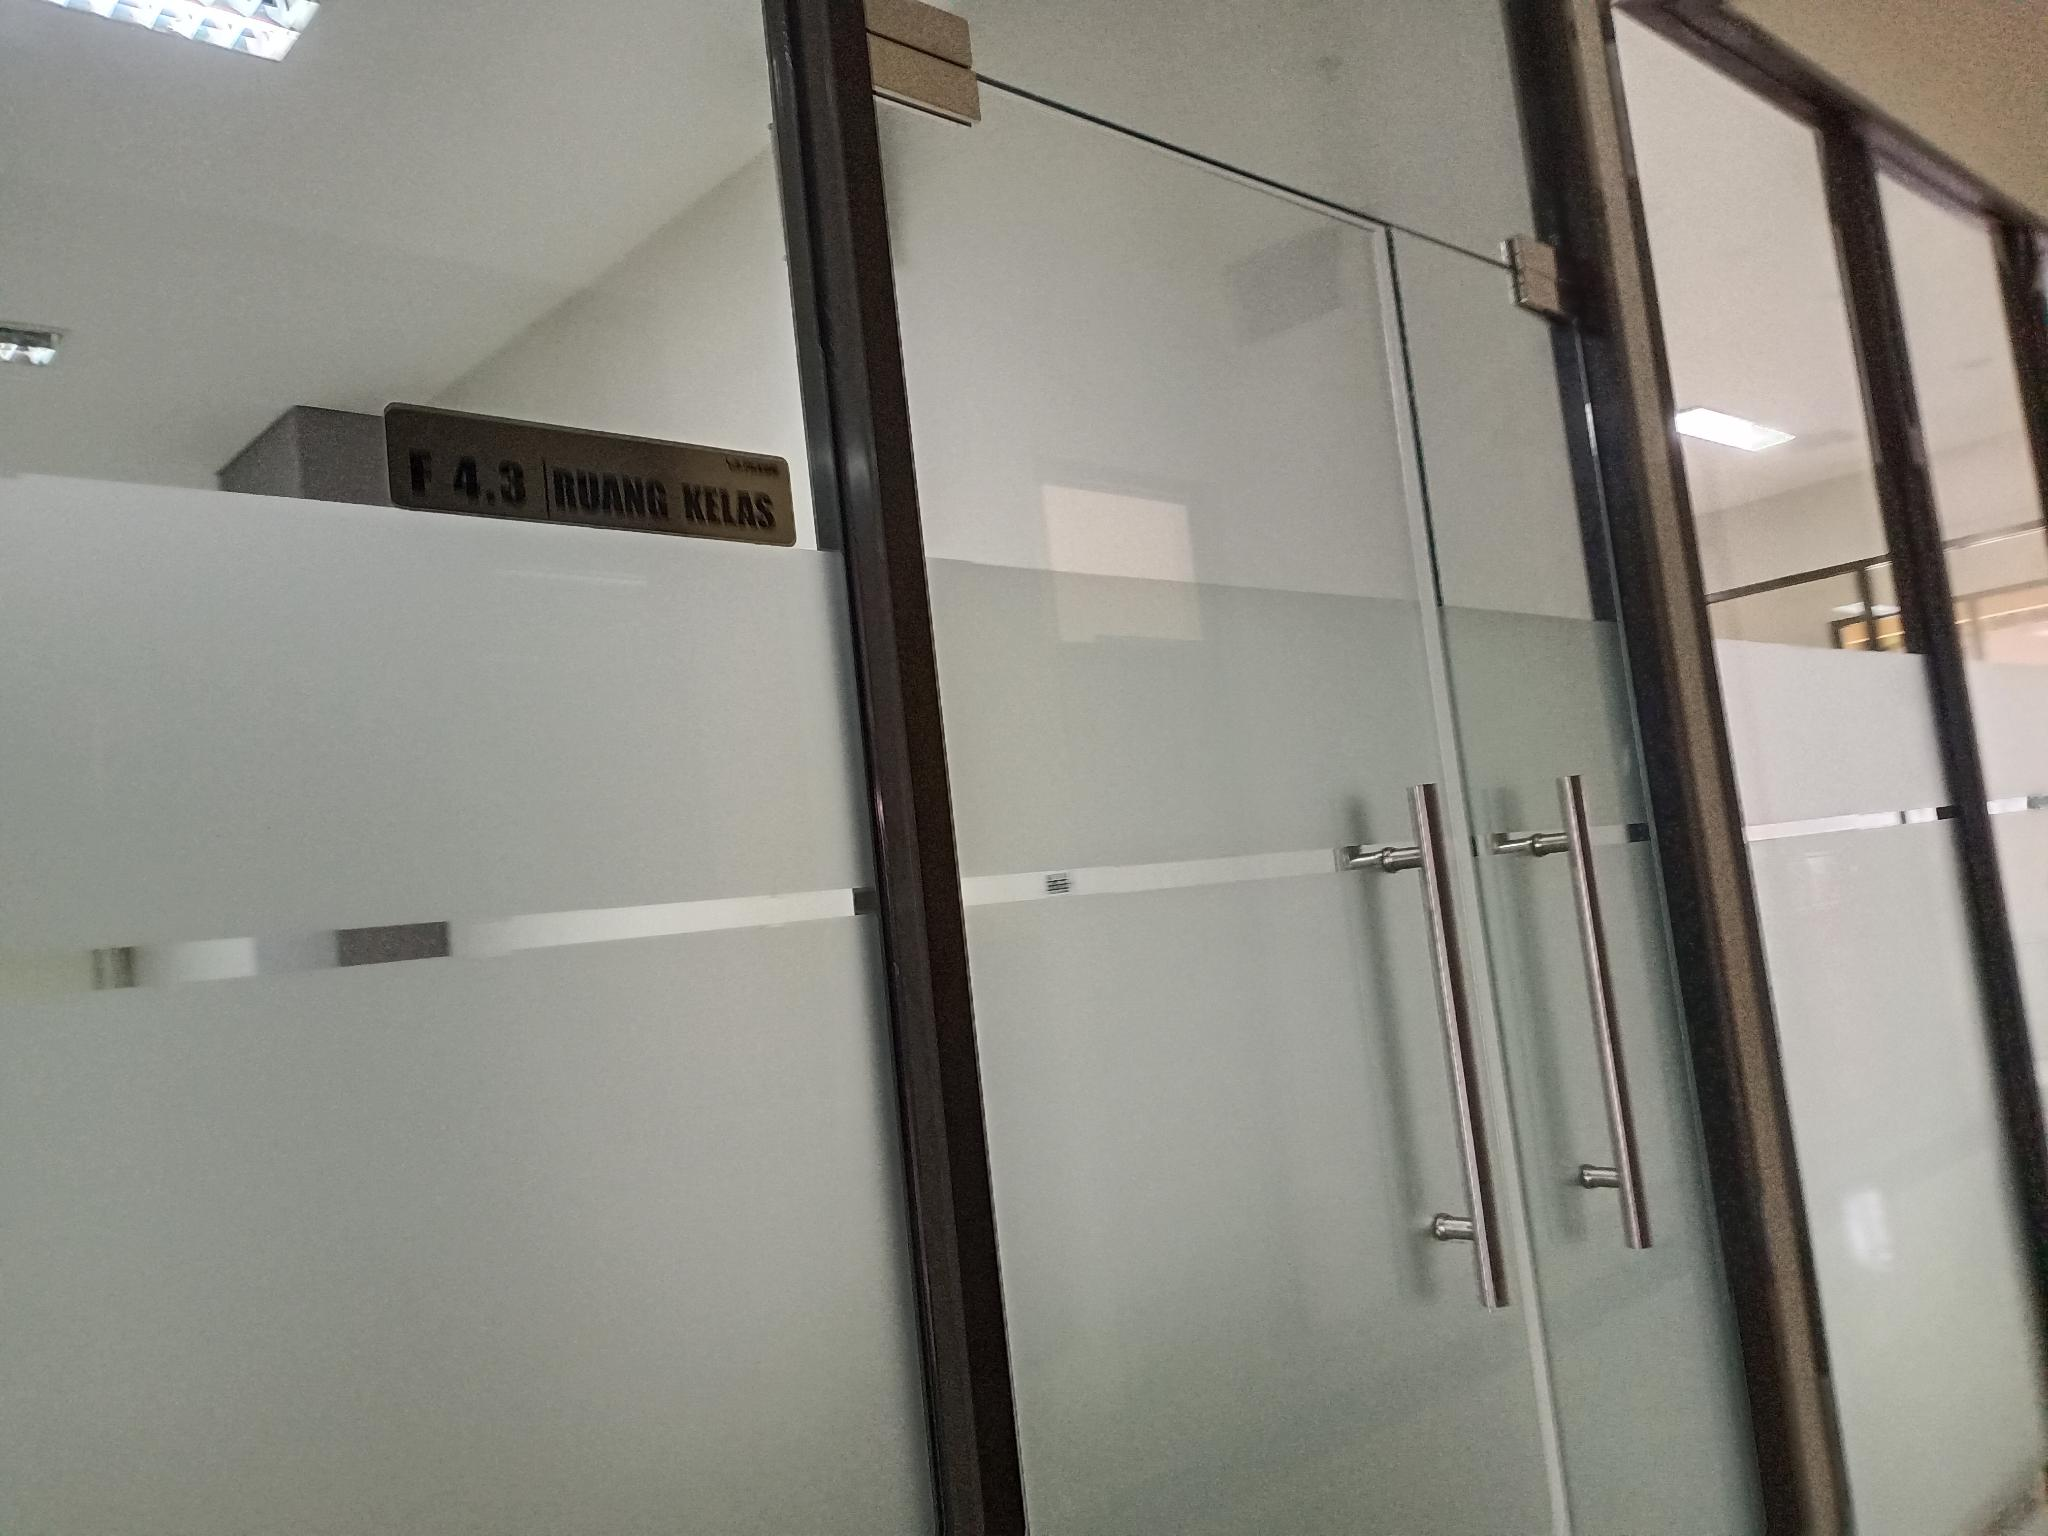plate: (382, 400, 797, 549)
